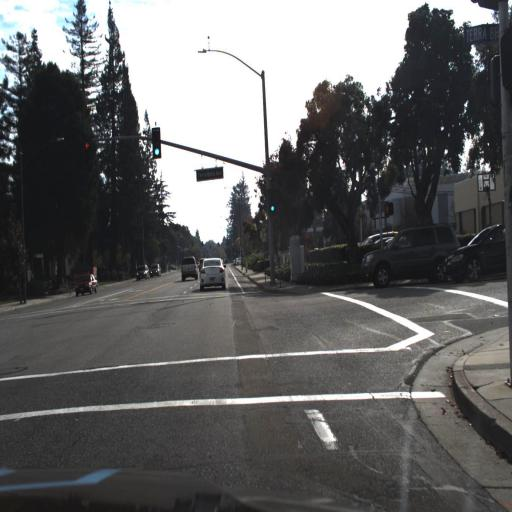car: (352, 222, 461, 291), (360, 220, 460, 289), (442, 221, 511, 287), (200, 257, 226, 292), (358, 224, 397, 245), (74, 271, 98, 296), (76, 273, 98, 298), (180, 251, 198, 277), (134, 260, 150, 279), (135, 263, 149, 281), (195, 252, 208, 270), (150, 264, 162, 280), (149, 262, 160, 276)
trafficLight-Green: (150, 126, 161, 160), (266, 186, 276, 215), (266, 194, 276, 220), (152, 126, 159, 154)
trafficLight-RedLeft: (82, 137, 92, 163), (83, 136, 91, 166)
